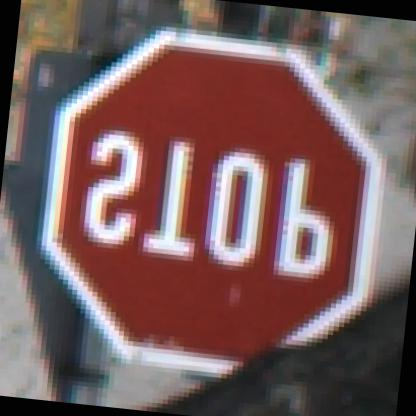stop: (20, 22, 404, 402)
